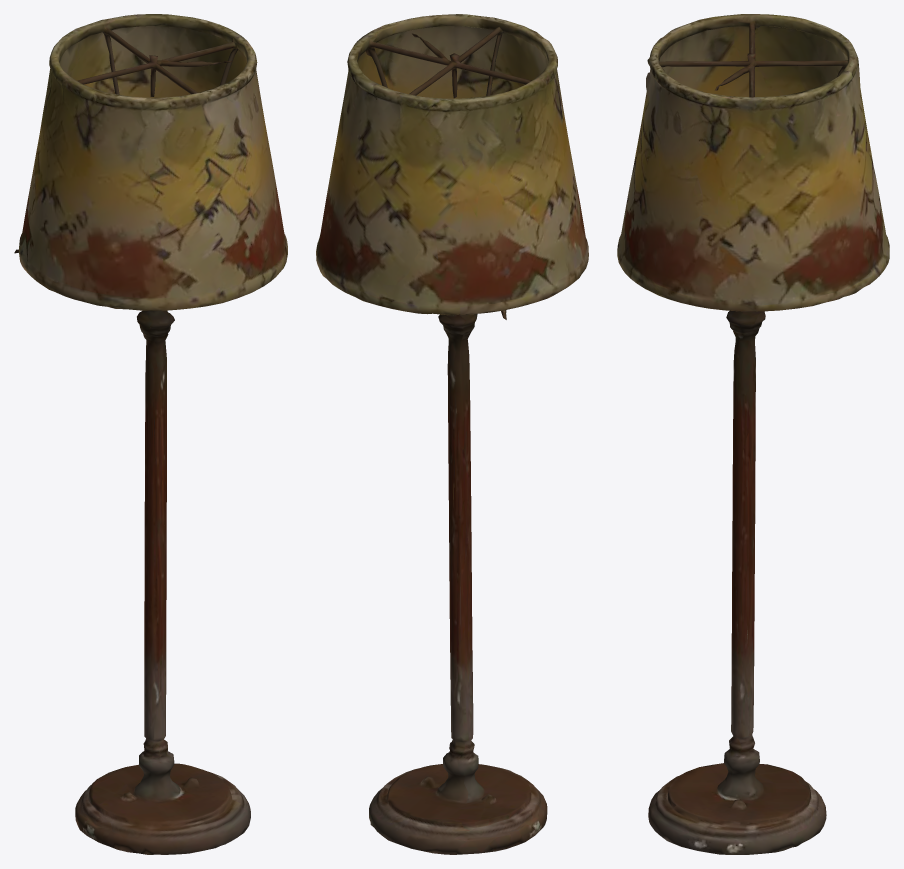
The model's file is de_floorlamp.glb.
The picture shows the model from 3 angles, left to right: view 1: azimuth 30°, elevation 25°; view 2: azimuth 150°, elevation 25°; view 3: azimuth 270°, elevation 25°; orthographic projection.
Visible parts, largest first — view 1: tripo_node_1cd0e6e9-c434-4b36-9412-e3d7826a741a; view 2: tripo_node_1cd0e6e9-c434-4b36-9412-e3d7826a741a; view 3: tripo_node_1cd0e6e9-c434-4b36-9412-e3d7826a741a.
Part boxes in pixels (x1,y1,x2,y2): tripo_node_1cd0e6e9-c434-4b36-9412-e3d7826a741a: [14, 14, 287, 854]; tripo_node_1cd0e6e9-c434-4b36-9412-e3d7826a741a: [316, 14, 588, 854]; tripo_node_1cd0e6e9-c434-4b36-9412-e3d7826a741a: [617, 14, 889, 854].
Size of the model in its own units: 0.321 by 0.9997 by 0.3238.
1 material, 1 textured.
